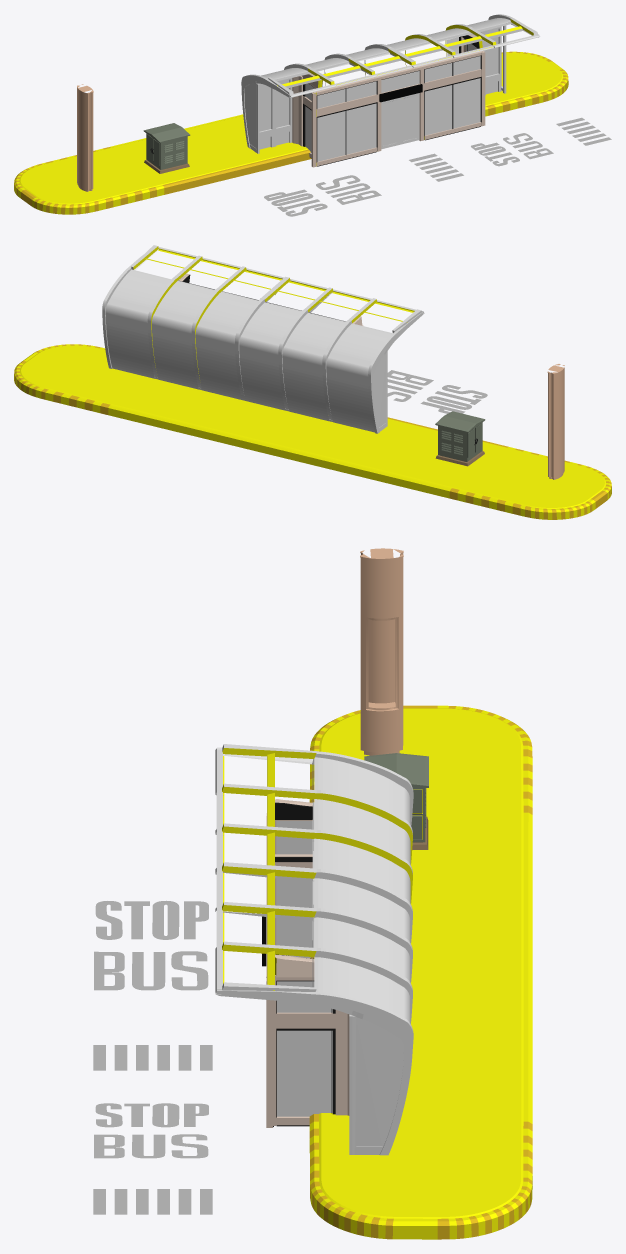
Rendered from bus-station.glb.
3 renders of one model, top to bottom at view 1: azimuth 30°, elevation 25°; view 2: azimuth 150°, elevation 25°; view 3: azimuth 270°, elevation 25°, orthographic. The views are drawn at different scales.
Visible parts, largest first — view 1: Plane.002, Plane.007, Plane.008, Plane.044, Plane.023, Text.005, Text.003, Text.004, Text.006; view 2: Plane.008, Plane.002, Plane.044, Plane.023, Text.003, Text.004; view 3: Plane.002, Plane.008, Plane.023, Text.005, Text.003, Text.004, Plane.044, Text.006, Plane.007.
Part boxes in pixels (x1,y1,x2,y2): Plane.002: (14, 51, 568, 214); Plane.007: (311, 51, 485, 167); Plane.008: (241, 14, 540, 158); Plane.044: (143, 123, 190, 173); Plane.023: (77, 84, 93, 191); Text.005: (409, 117, 611, 181); Text.003: (264, 189, 327, 216); Text.004: (316, 175, 381, 204); Text.006: (503, 133, 553, 159); Plane.008: (102, 245, 424, 433); Plane.002: (14, 344, 611, 519); Plane.044: (435, 411, 485, 466); Plane.023: (547, 364, 564, 479); Text.003: (420, 385, 487, 413); Text.004: (387, 370, 433, 401); Plane.002: (309, 705, 532, 1239); Plane.008: (215, 744, 413, 1155); Plane.023: (360, 548, 403, 755); Text.005: (93, 1045, 212, 1214); Text.003: (95, 900, 208, 939); Text.004: (94, 951, 208, 990); Plane.044: (364, 753, 428, 849); Text.006: (94, 1134, 208, 1158); Plane.007: (262, 813, 273, 1127).
Bounding box in the file's own units: 23.23 × 4.53 × 8.31.
Materials: 16 (4 with a texture image).
